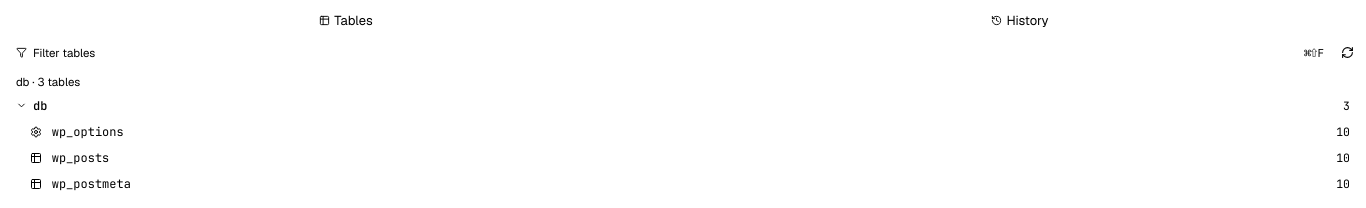
Test: Sidebar › filters tables by name
Type "post" into the field named "Filter tables" at coordinates (664, 53), box [33,41,1294,65]
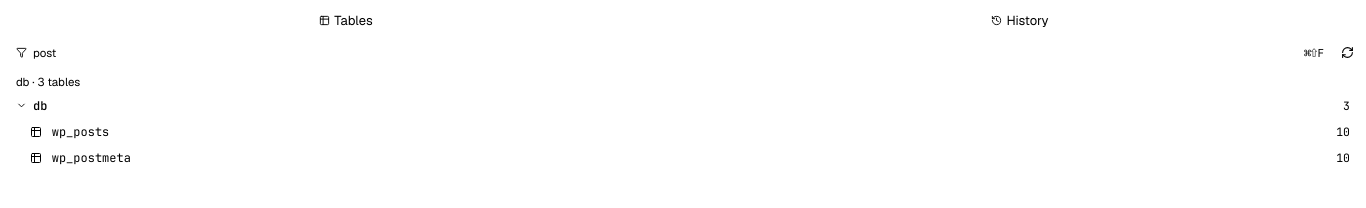
Expected: the text "wp_posts" is shown, [52,124,109,140]
Expected: the text "wp_options" is gone
